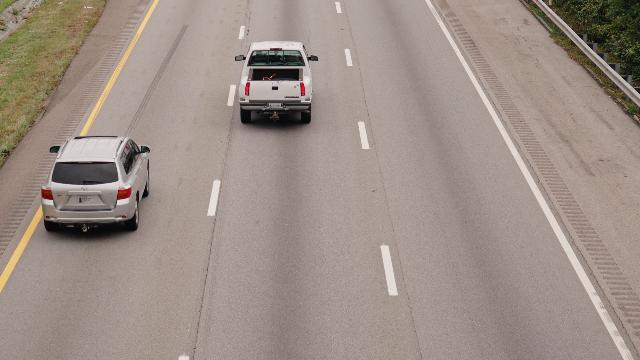car: (40, 134, 156, 237)
pickup-truck: (233, 37, 323, 127)
